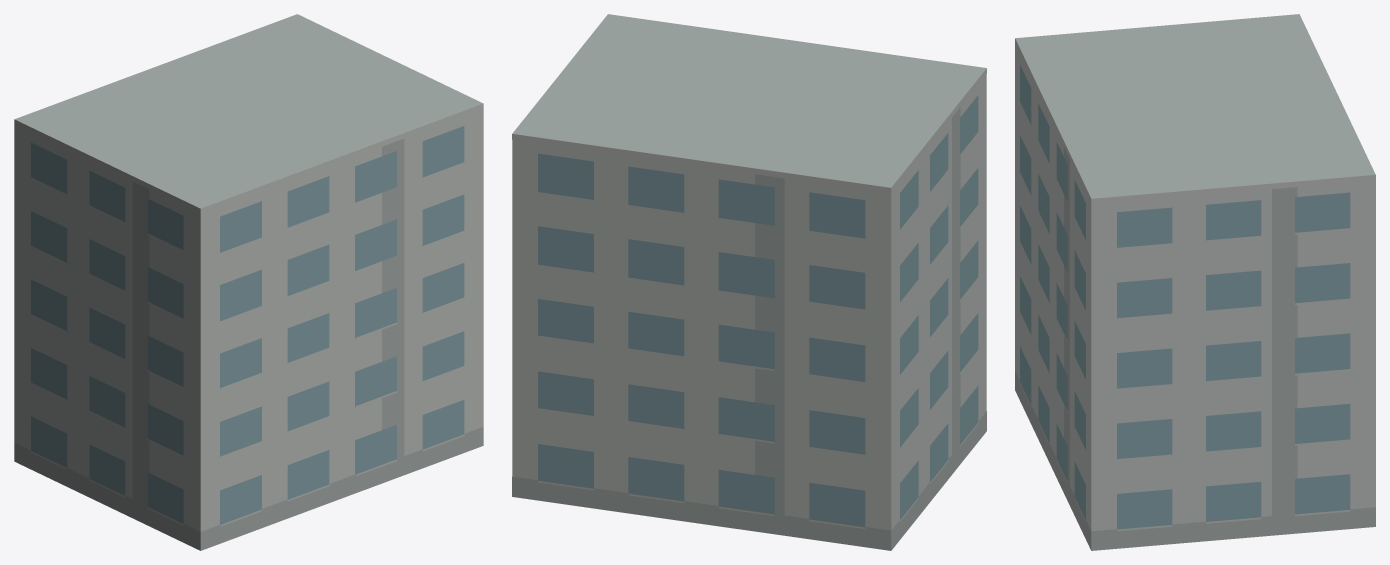
Rendered from residential-2d08ab7f-ca73-4d0d-95b6-2bd3dfe99e39.glb.
The picture shows the model from 3 angles, left to right: view 1: azimuth 30°, elevation 25°; view 2: azimuth 150°, elevation 25°; view 3: azimuth 270°, elevation 25°; orthographic projection. The views are drawn at different scales.
Visible parts, largest first — view 1: residential-2d08ab7f-ca73-4d0d-95b6-2bd3dfe99e39.tmp; view 2: residential-2d08ab7f-ca73-4d0d-95b6-2bd3dfe99e39.tmp; view 3: residential-2d08ab7f-ca73-4d0d-95b6-2bd3dfe99e39.tmp.
Part boxes in pixels (x1,y1,x2,y2): residential-2d08ab7f-ca73-4d0d-95b6-2bd3dfe99e39.tmp: (14,14,483,550); residential-2d08ab7f-ca73-4d0d-95b6-2bd3dfe99e39.tmp: (512,14,986,550); residential-2d08ab7f-ca73-4d0d-95b6-2bd3dfe99e39.tmp: (1015,14,1375,550).
Size of the model in its own units: 17.18 by 15.25 by 14.17.
